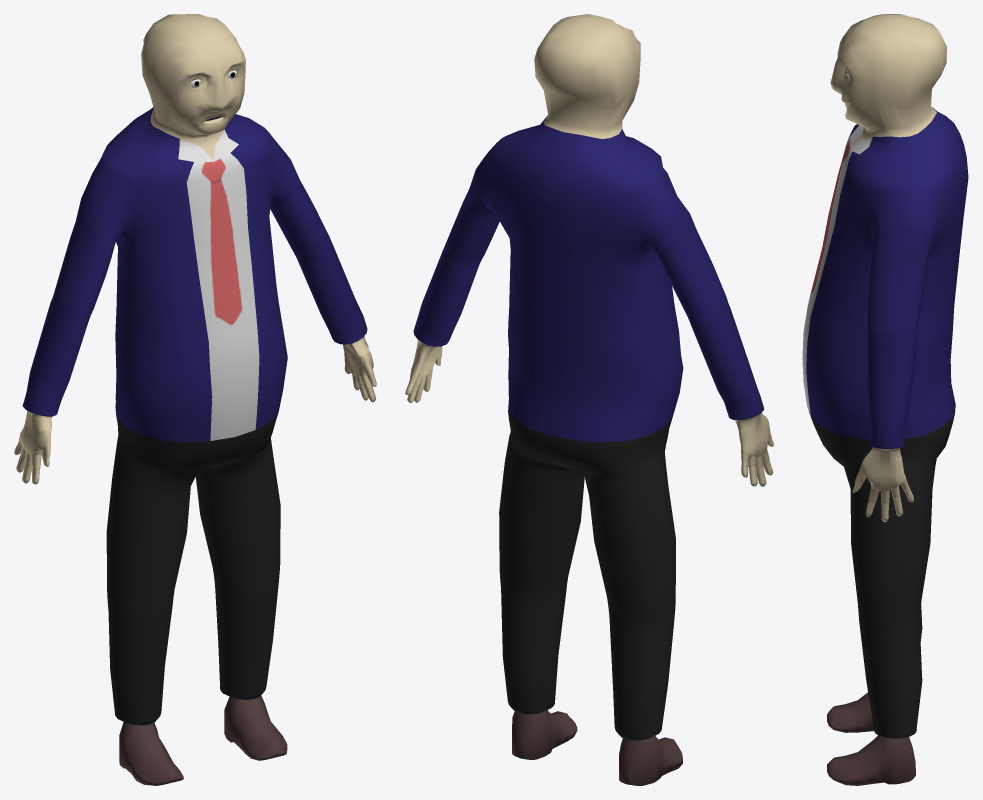
File: Character_4_Still.fbx
The picture shows the model from 3 angles, left to right: view 1: azimuth 30°, elevation 25°; view 2: azimuth 150°, elevation 25°; view 3: azimuth 270°, elevation 25°; orthographic projection.
Parts seen in each view (by area): view 1: Body_Geom; view 2: Body_Geom; view 3: Body_Geom.
Part boxes in pixels (box(x1,y1,x2,y2)): Body_Geom: box(14, 14, 376, 785); Body_Geom: box(405, 14, 773, 785); Body_Geom: box(802, 14, 968, 785).
Size of the model in its own units: 0.7887 by 1.59 by 0.3283.
Materials: 2 (2 with a texture image).
